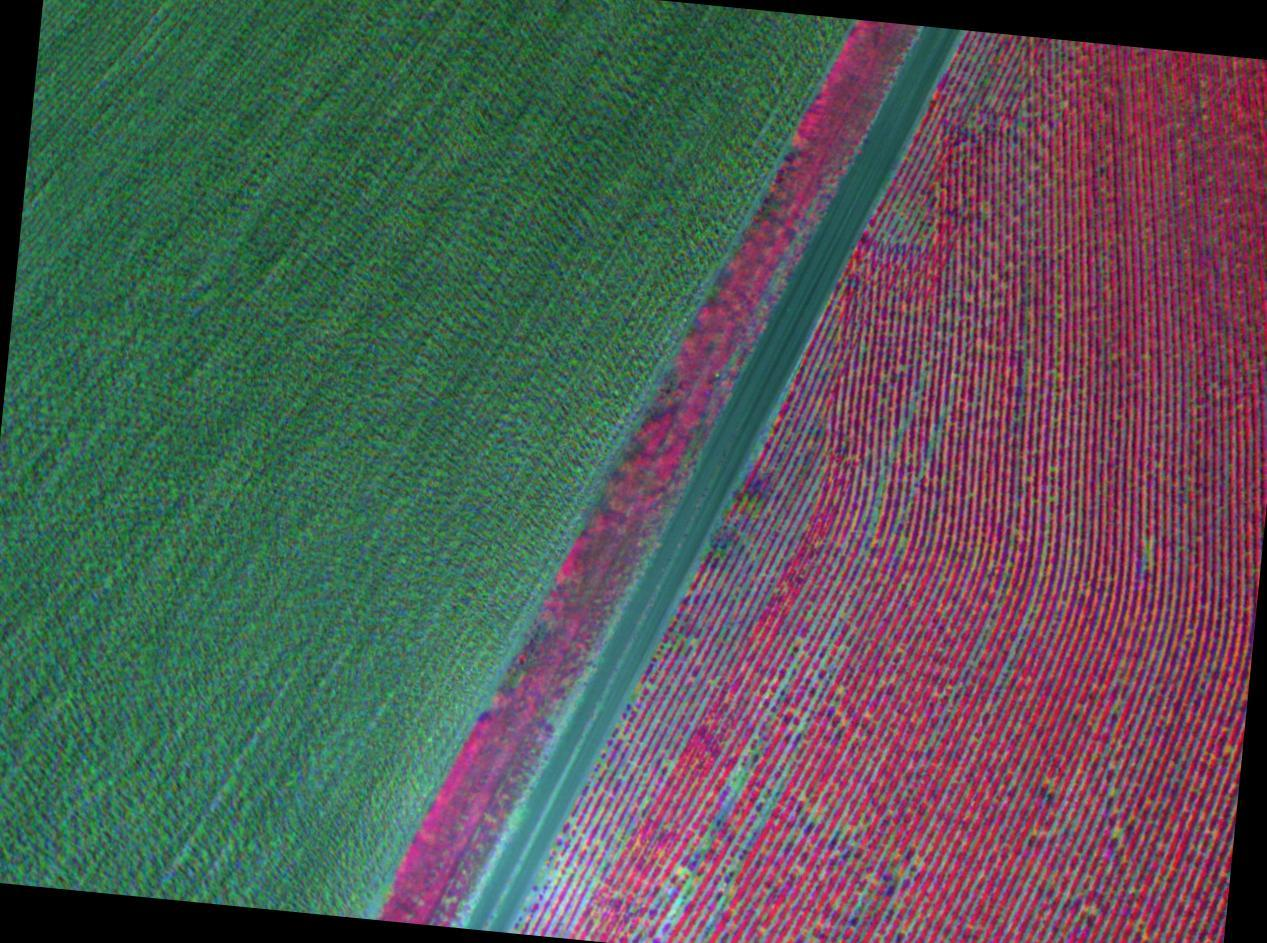dc: (869, 528, 877, 537), (942, 408, 949, 417), (722, 806, 730, 813), (763, 808, 771, 815), (686, 885, 694, 891), (733, 770, 739, 777), (750, 831, 756, 835)
